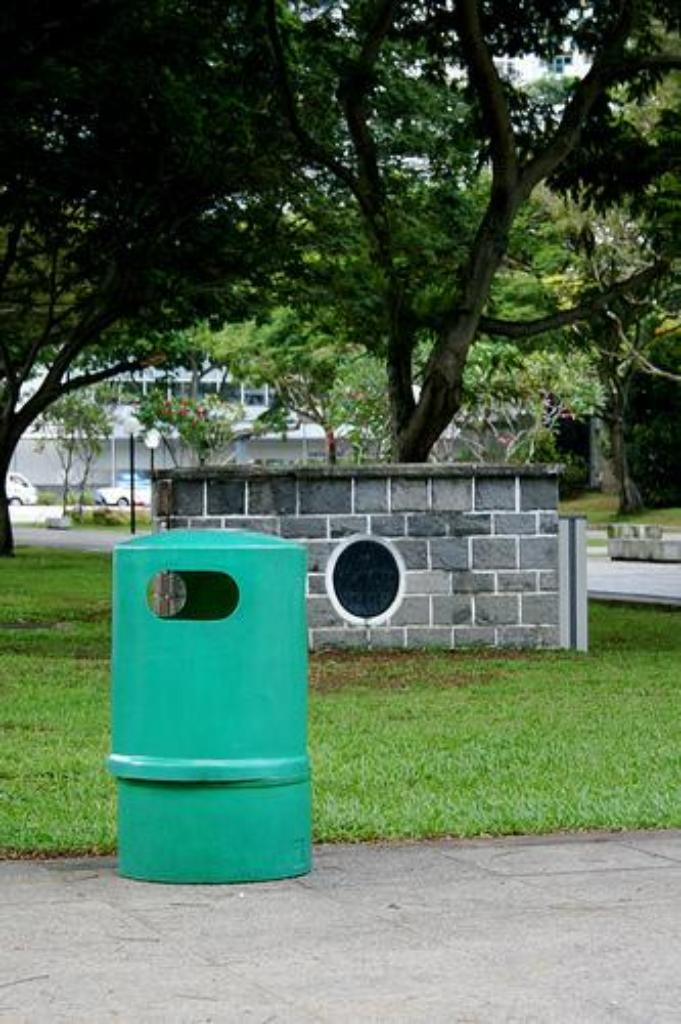dustbin: (93, 512, 320, 916)
